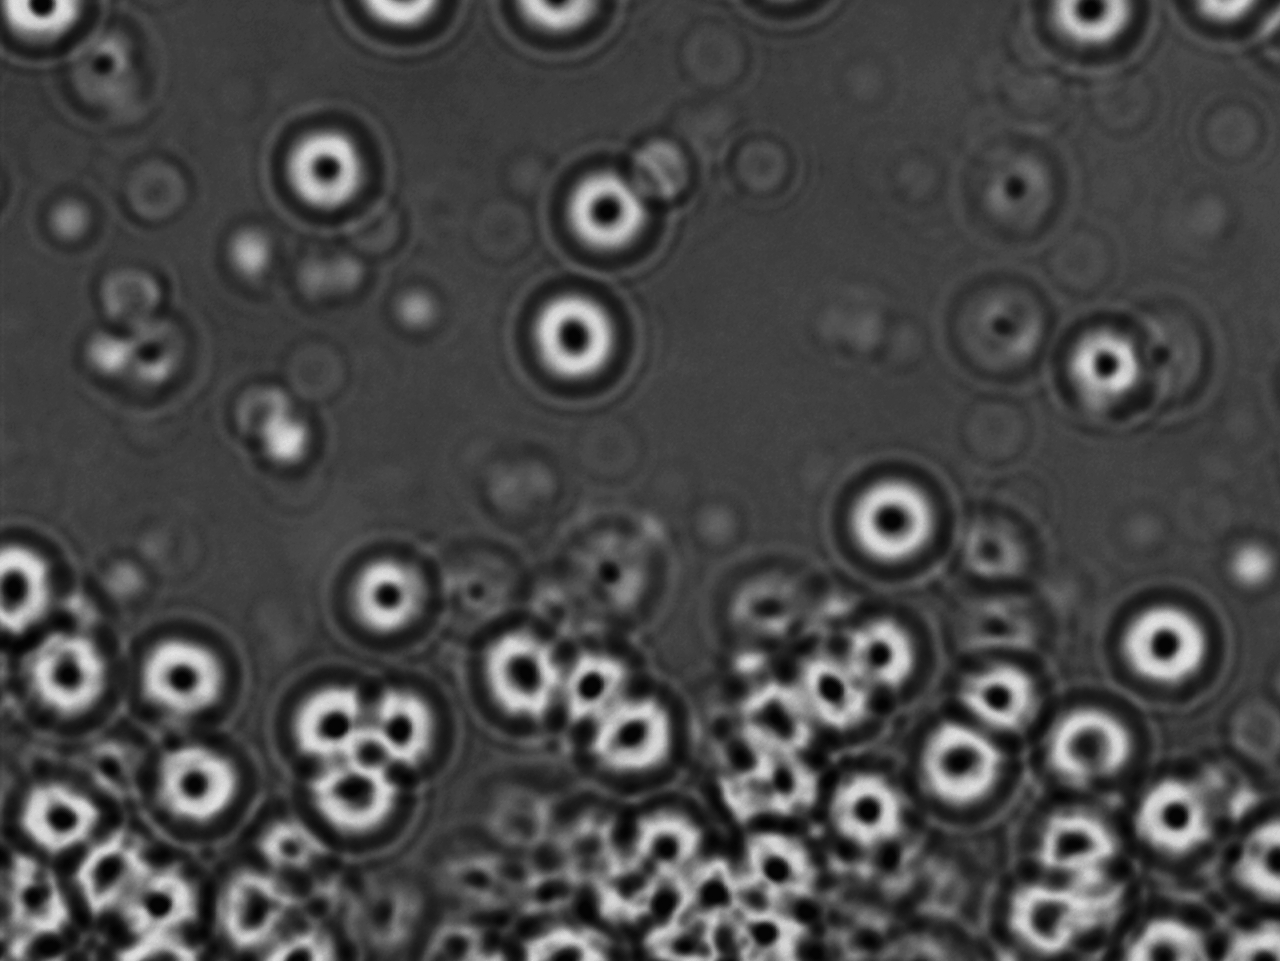depth:16: (255, 103, 388, 235), (507, 275, 643, 401), (830, 447, 956, 580), (325, 536, 459, 650), (539, 148, 662, 273), (1108, 584, 1234, 697), (449, 601, 559, 722), (119, 616, 238, 726), (908, 703, 1017, 815), (6, 622, 108, 730), (143, 733, 247, 836), (1038, 695, 1143, 793), (270, 671, 379, 765), (1130, 776, 1236, 871), (950, 647, 1048, 740)
